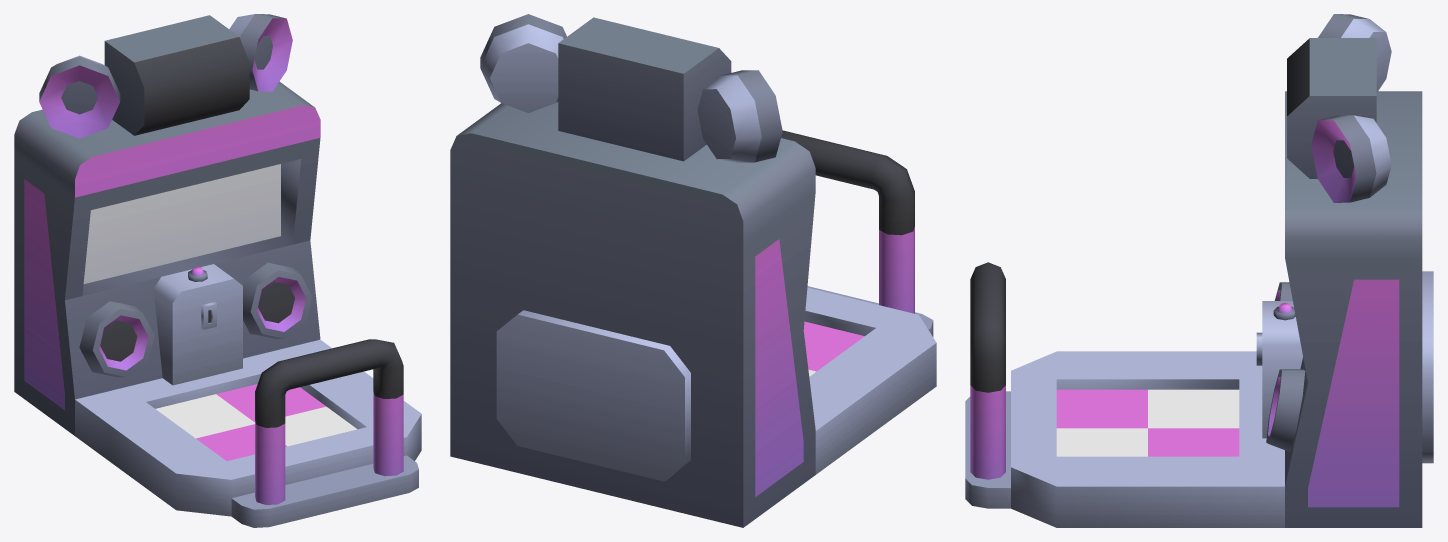
File: arcade.dance_machine.glb
3 renders of one model, left to right at view 1: azimuth 30°, elevation 25°; view 2: azimuth 150°, elevation 25°; view 3: azimuth 270°, elevation 25°, orthographic. The views are drawn at different scales.
Parts seen in each view (by area): view 1: dance-machine; view 2: dance-machine, Group; view 3: dance-machine, Group.
Boxes of the visible parts, x1,y1,x2,y2 form: dance-machine: (14,14,421,527); dance-machine: (450,14,936,527); Group: (496,310,690,481); dance-machine: (965,14,1422,527); Group: (1422,271,1433,463).
Bounding box in the file's own units: 1.8 × 2.36 × 2.54.
1 material, 1 textured.
